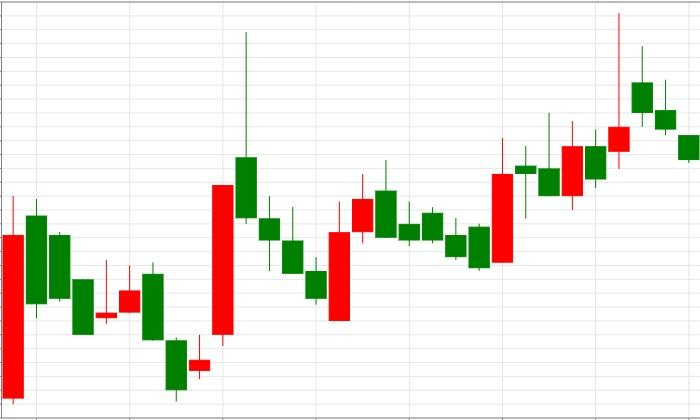three_black_crows_fall: (166, 33, 303, 402)
